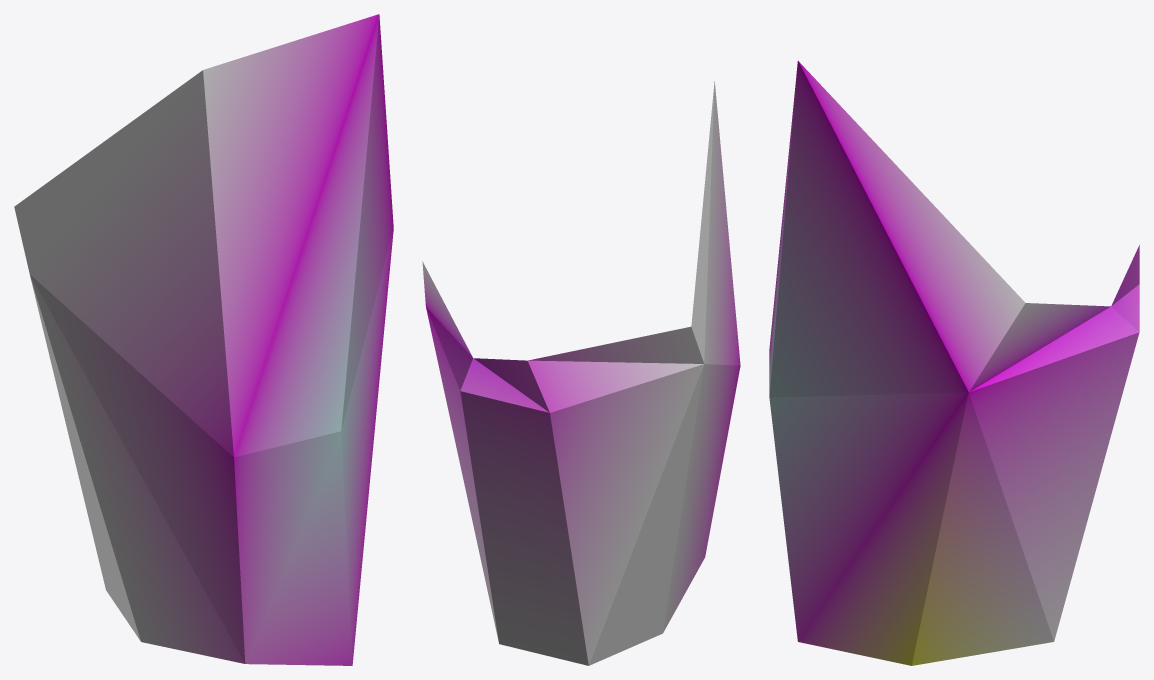
3 renders of one model, left to right at view 1: azimuth 30°, elevation 25°; view 2: azimuth 150°, elevation 25°; view 3: azimuth 270°, elevation 25°, orthographic. The views are drawn at different scales.
Visible parts, largest first — view 1: model_1110; view 2: model_1110; view 3: model_1110.
Boxes of the visible parts, x1,y1,x2,y2 form: model_1110: [14, 14, 393, 665]; model_1110: [422, 81, 740, 665]; model_1110: [769, 61, 1139, 665].
Bounding box in the file's own units: 13 × 23 × 13.
